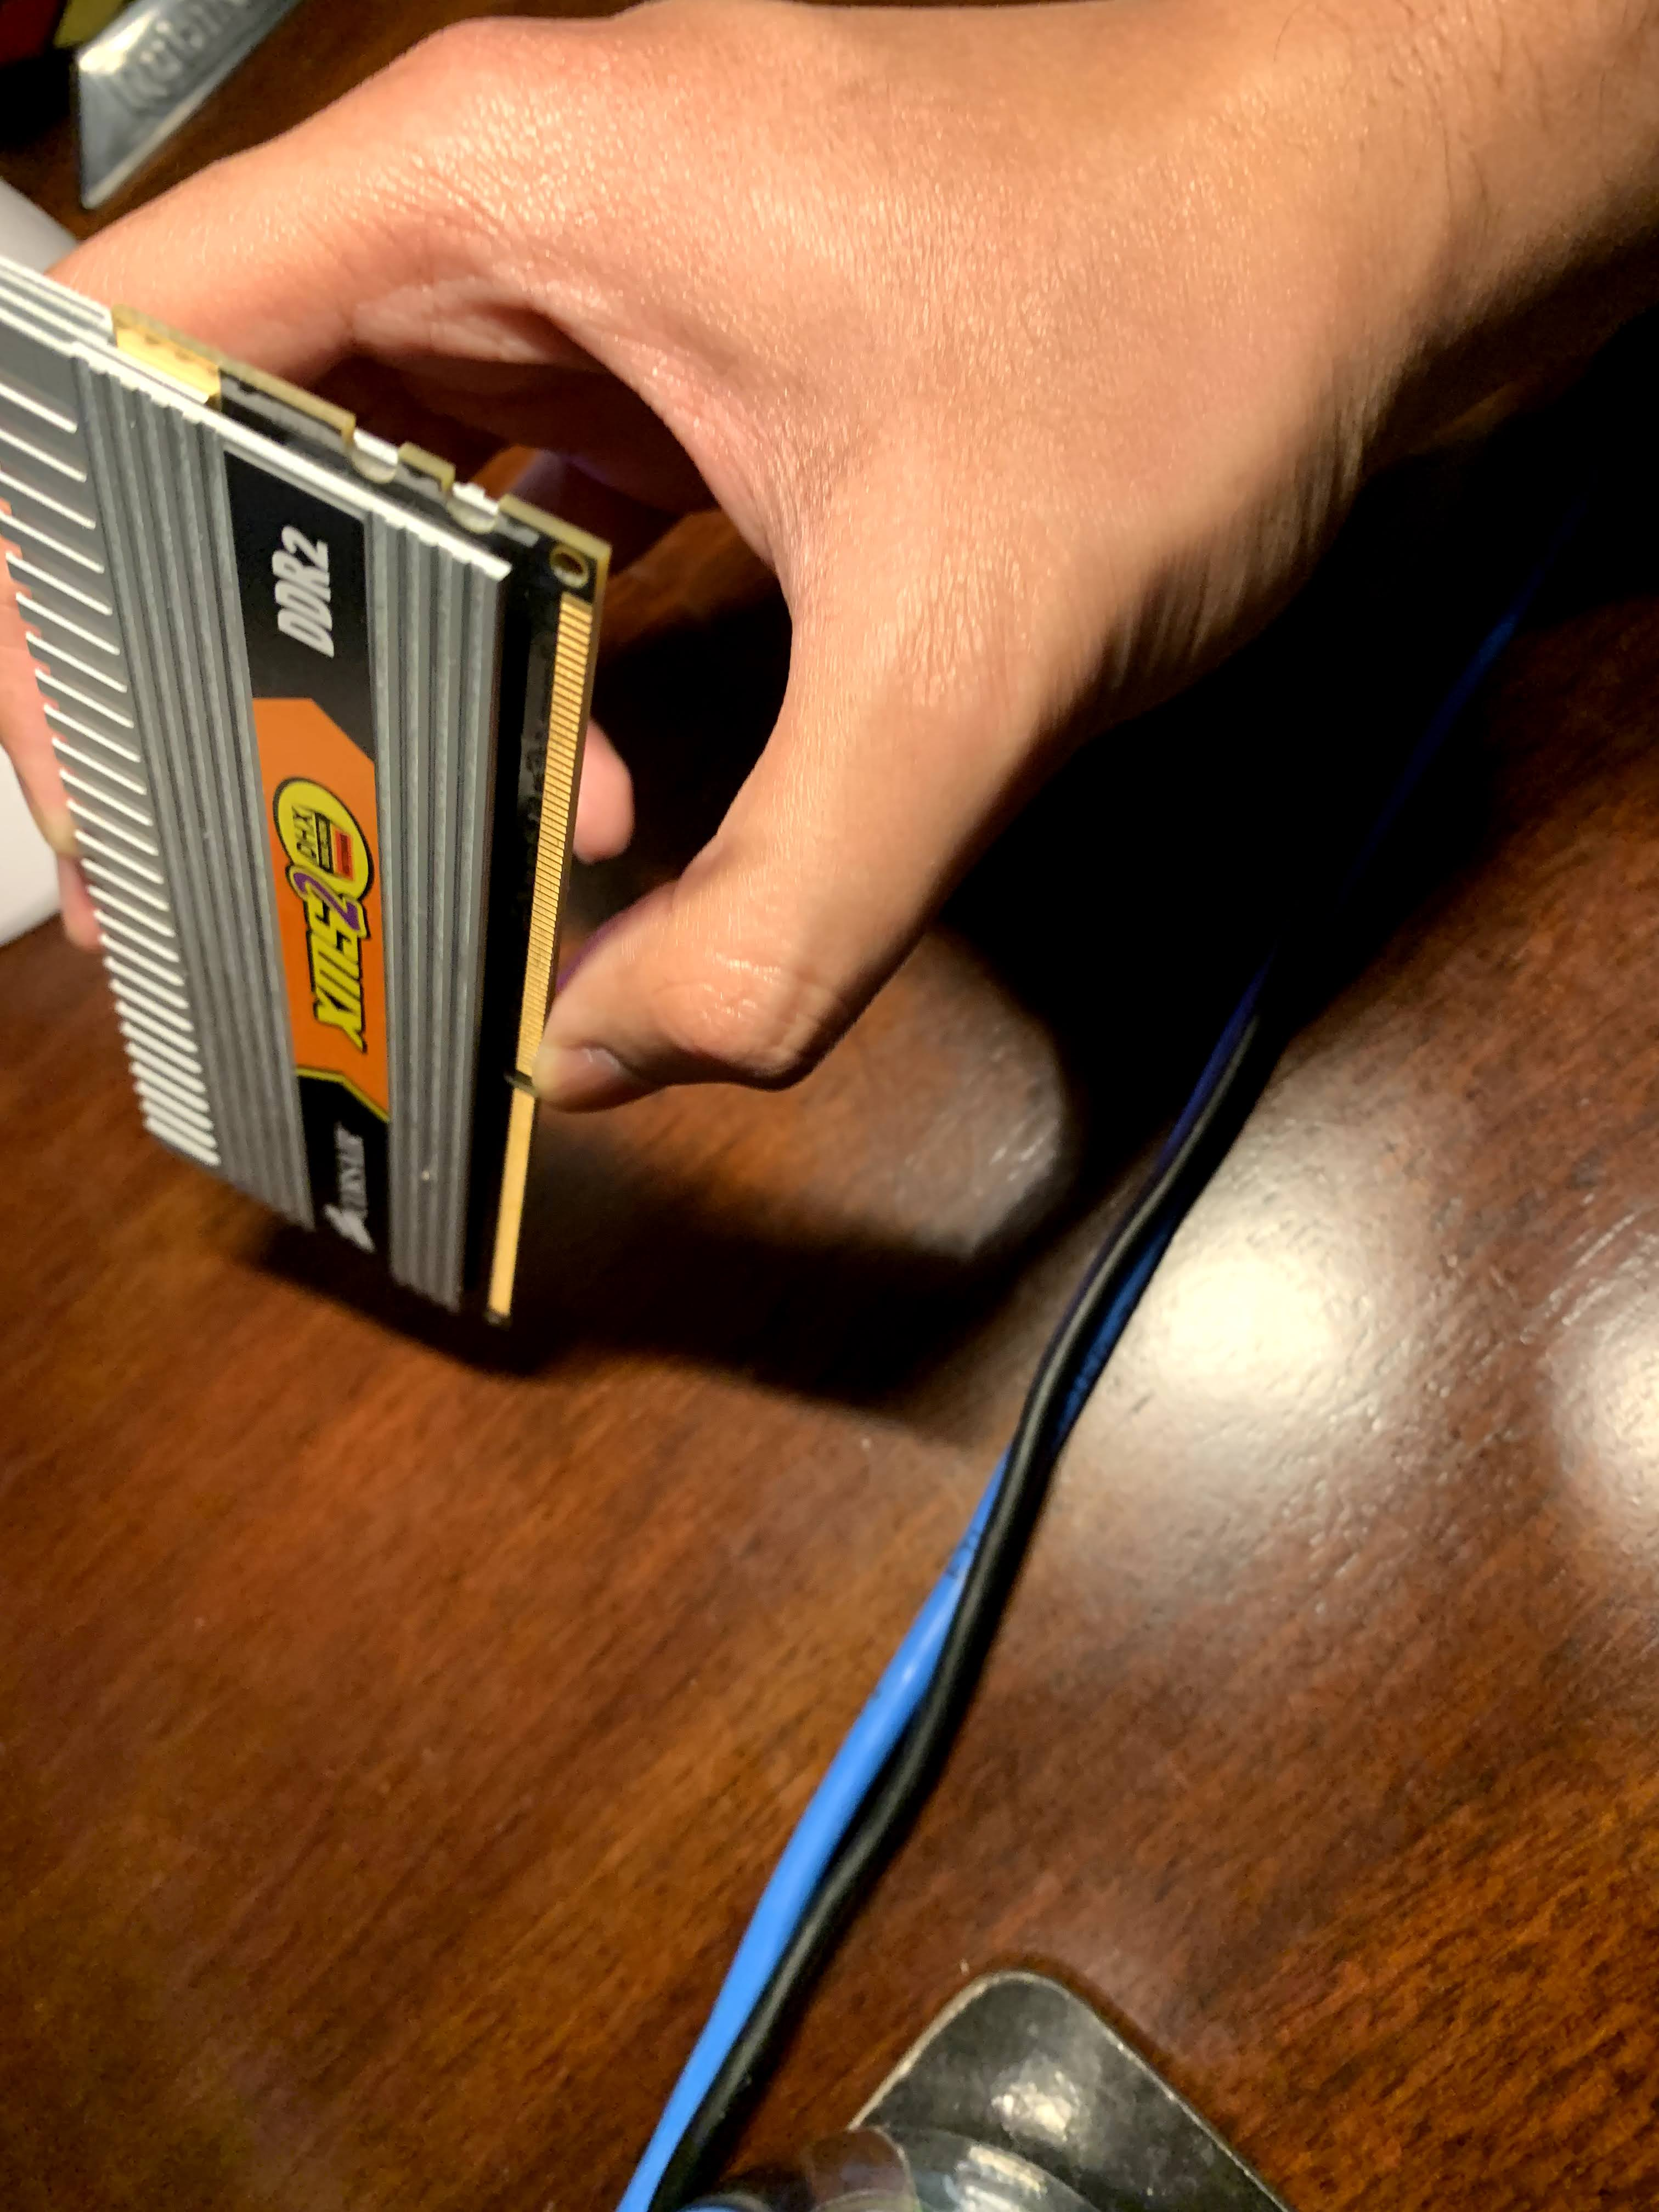Space-debris-medium: (3, 247, 629, 1364)
